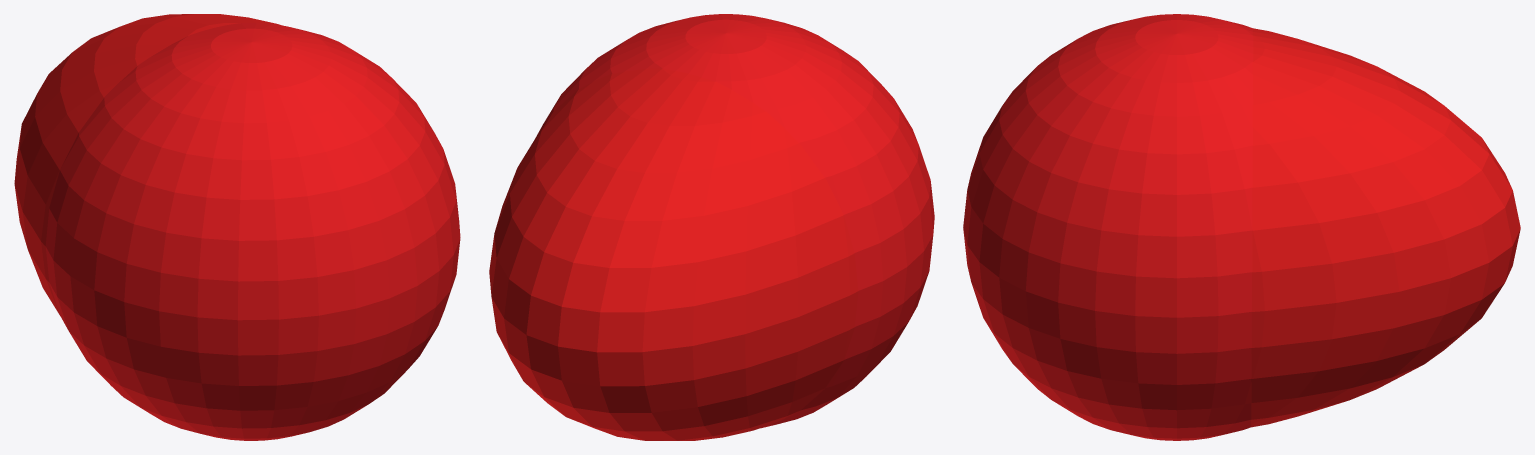
The model's file is Projectile.fbx.
3 renders of one model, left to right at view 1: azimuth 30°, elevation 25°; view 2: azimuth 150°, elevation 25°; view 3: azimuth 270°, elevation 25°, orthographic. The views are drawn at different scales.
Parts seen in each view (by area): view 1: Sphere, Sphere.001; view 2: Sphere.001, Sphere; view 3: Sphere, Sphere.001.
Part boxes in pixels (left/top/right/bottom): Sphere: left=45, top=23, right=460, bottom=440; Sphere.001: left=14, top=14, right=282, bottom=314; Sphere.001: left=489, top=68, right=858, bottom=440; Sphere: left=536, top=14, right=934, bottom=428; Sphere: left=963, top=14, right=1253, bottom=440; Sphere.001: left=1251, top=28, right=1520, bottom=427.
Size of the model in its own units: 100 by 100 by 130.
